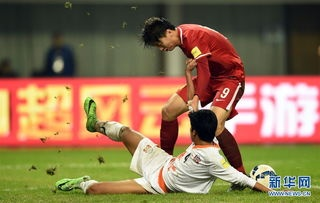falling: (45, 86, 283, 199)
